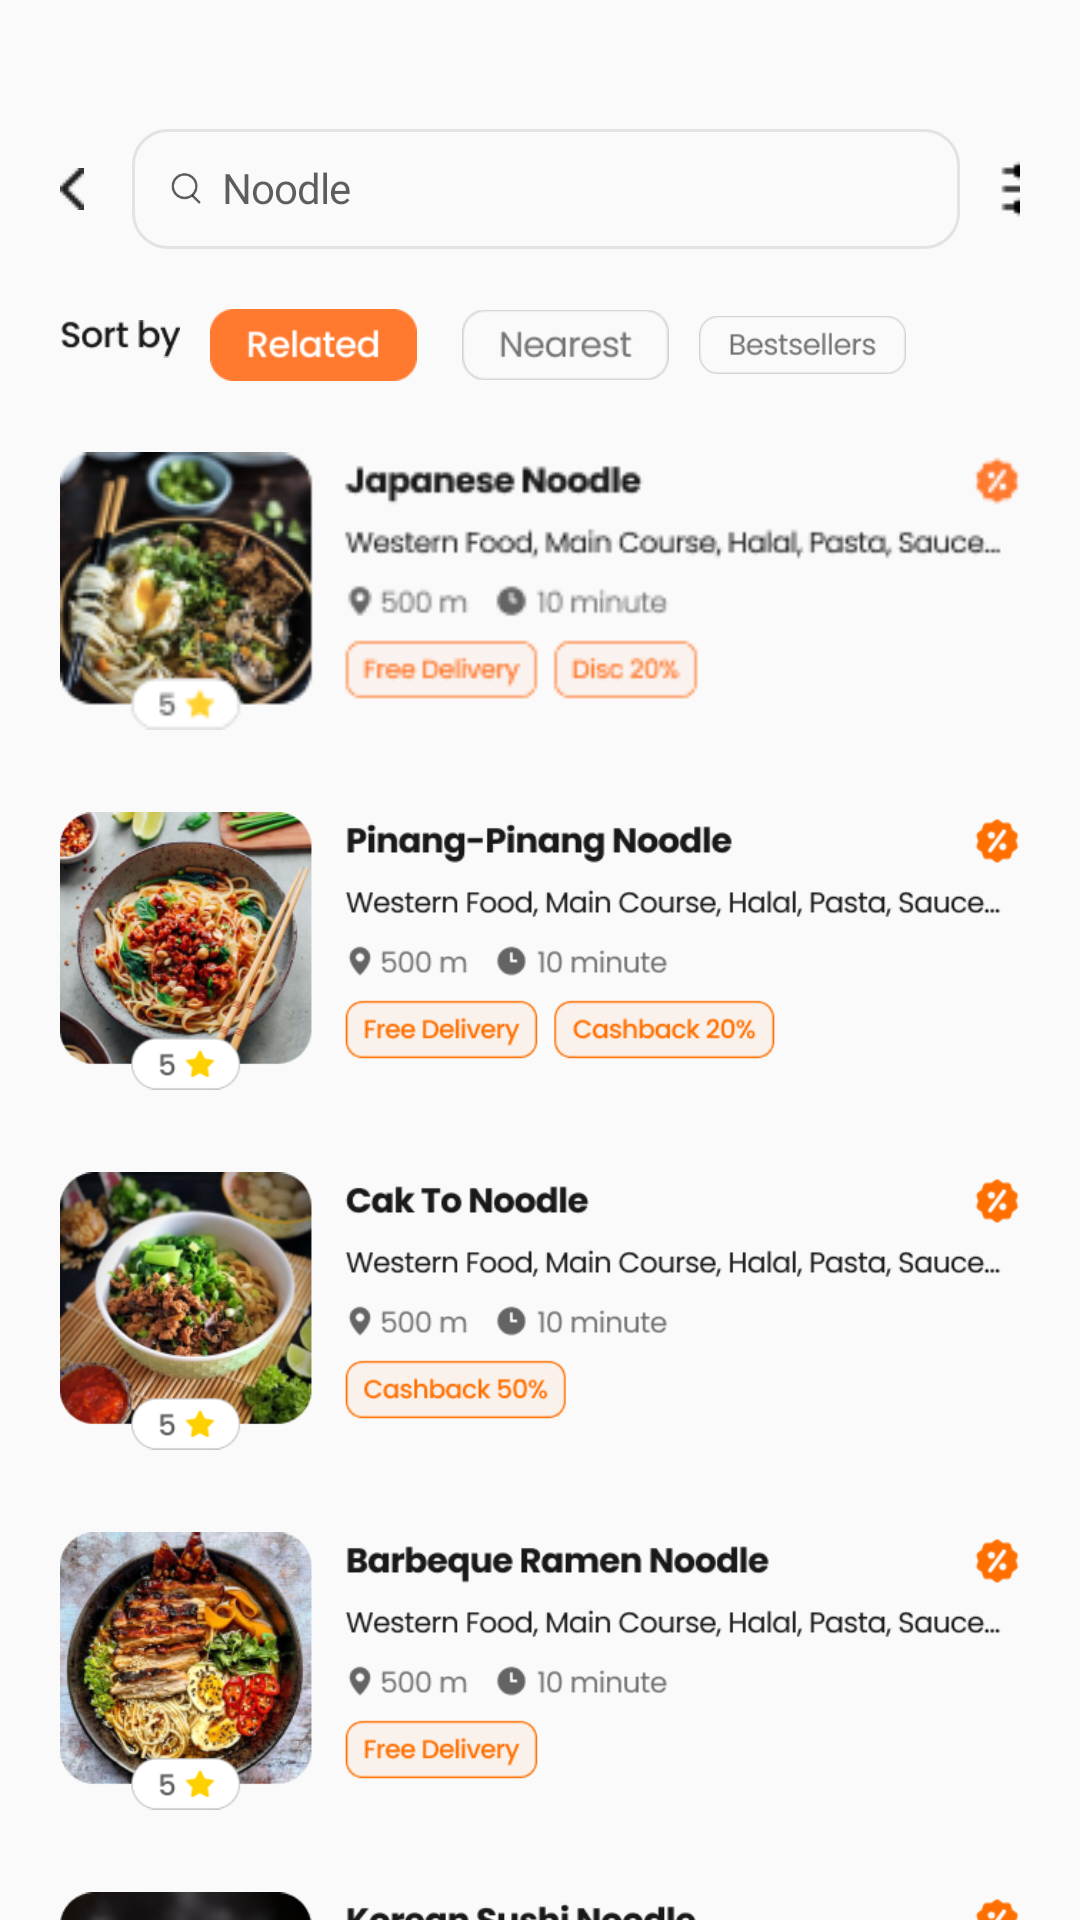

Icons on this 1080*1920 Android screen, each with its box as box=[x1, y1, x2, y2]:
arrow: box=[60, 168, 84, 210]
search: box=[171, 173, 201, 204]
